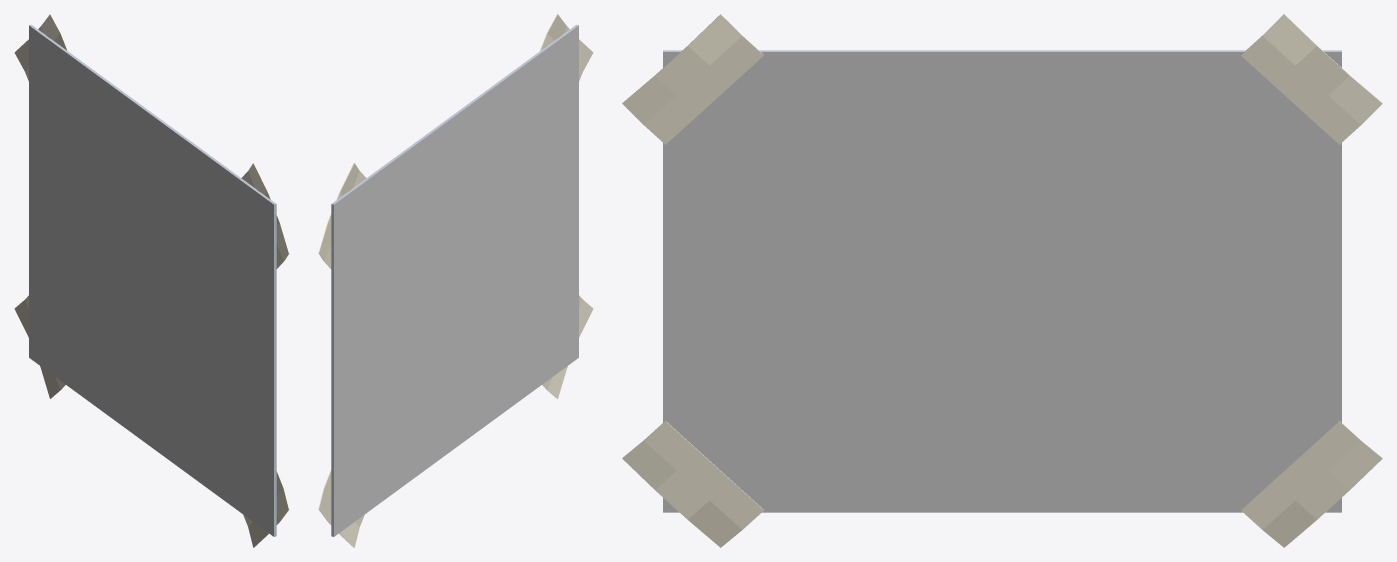
Rendered from frametape.gltf.
3 views of the same model, side by side, from view 1: azimuth 30°, elevation 25°; view 2: azimuth 150°, elevation 25°; view 3: azimuth 270°, elevation 25° (orthographic). The views are drawn at different scales.
Parts seen in each view (by area): view 1: frame, frame tape; view 2: frame, frame tape; view 3: frame, frame tape.
Boxes of the visible parts, bbox=[...] form: frame: bbox=[29, 24, 276, 536]; frame tape: bbox=[14, 14, 289, 547]; frame: bbox=[331, 24, 578, 536]; frame tape: bbox=[318, 14, 593, 547]; frame: bbox=[663, 50, 1341, 512]; frame tape: bbox=[622, 14, 1382, 547].
Bounding box in the file's own units: 0.0228 × 2.32 × 2.99.
